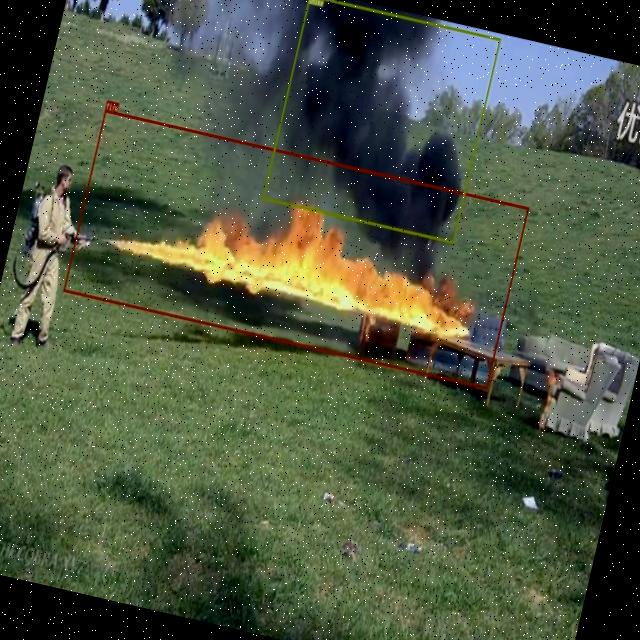fire: (62, 109, 528, 388)
smoke: (262, 0, 500, 243)
